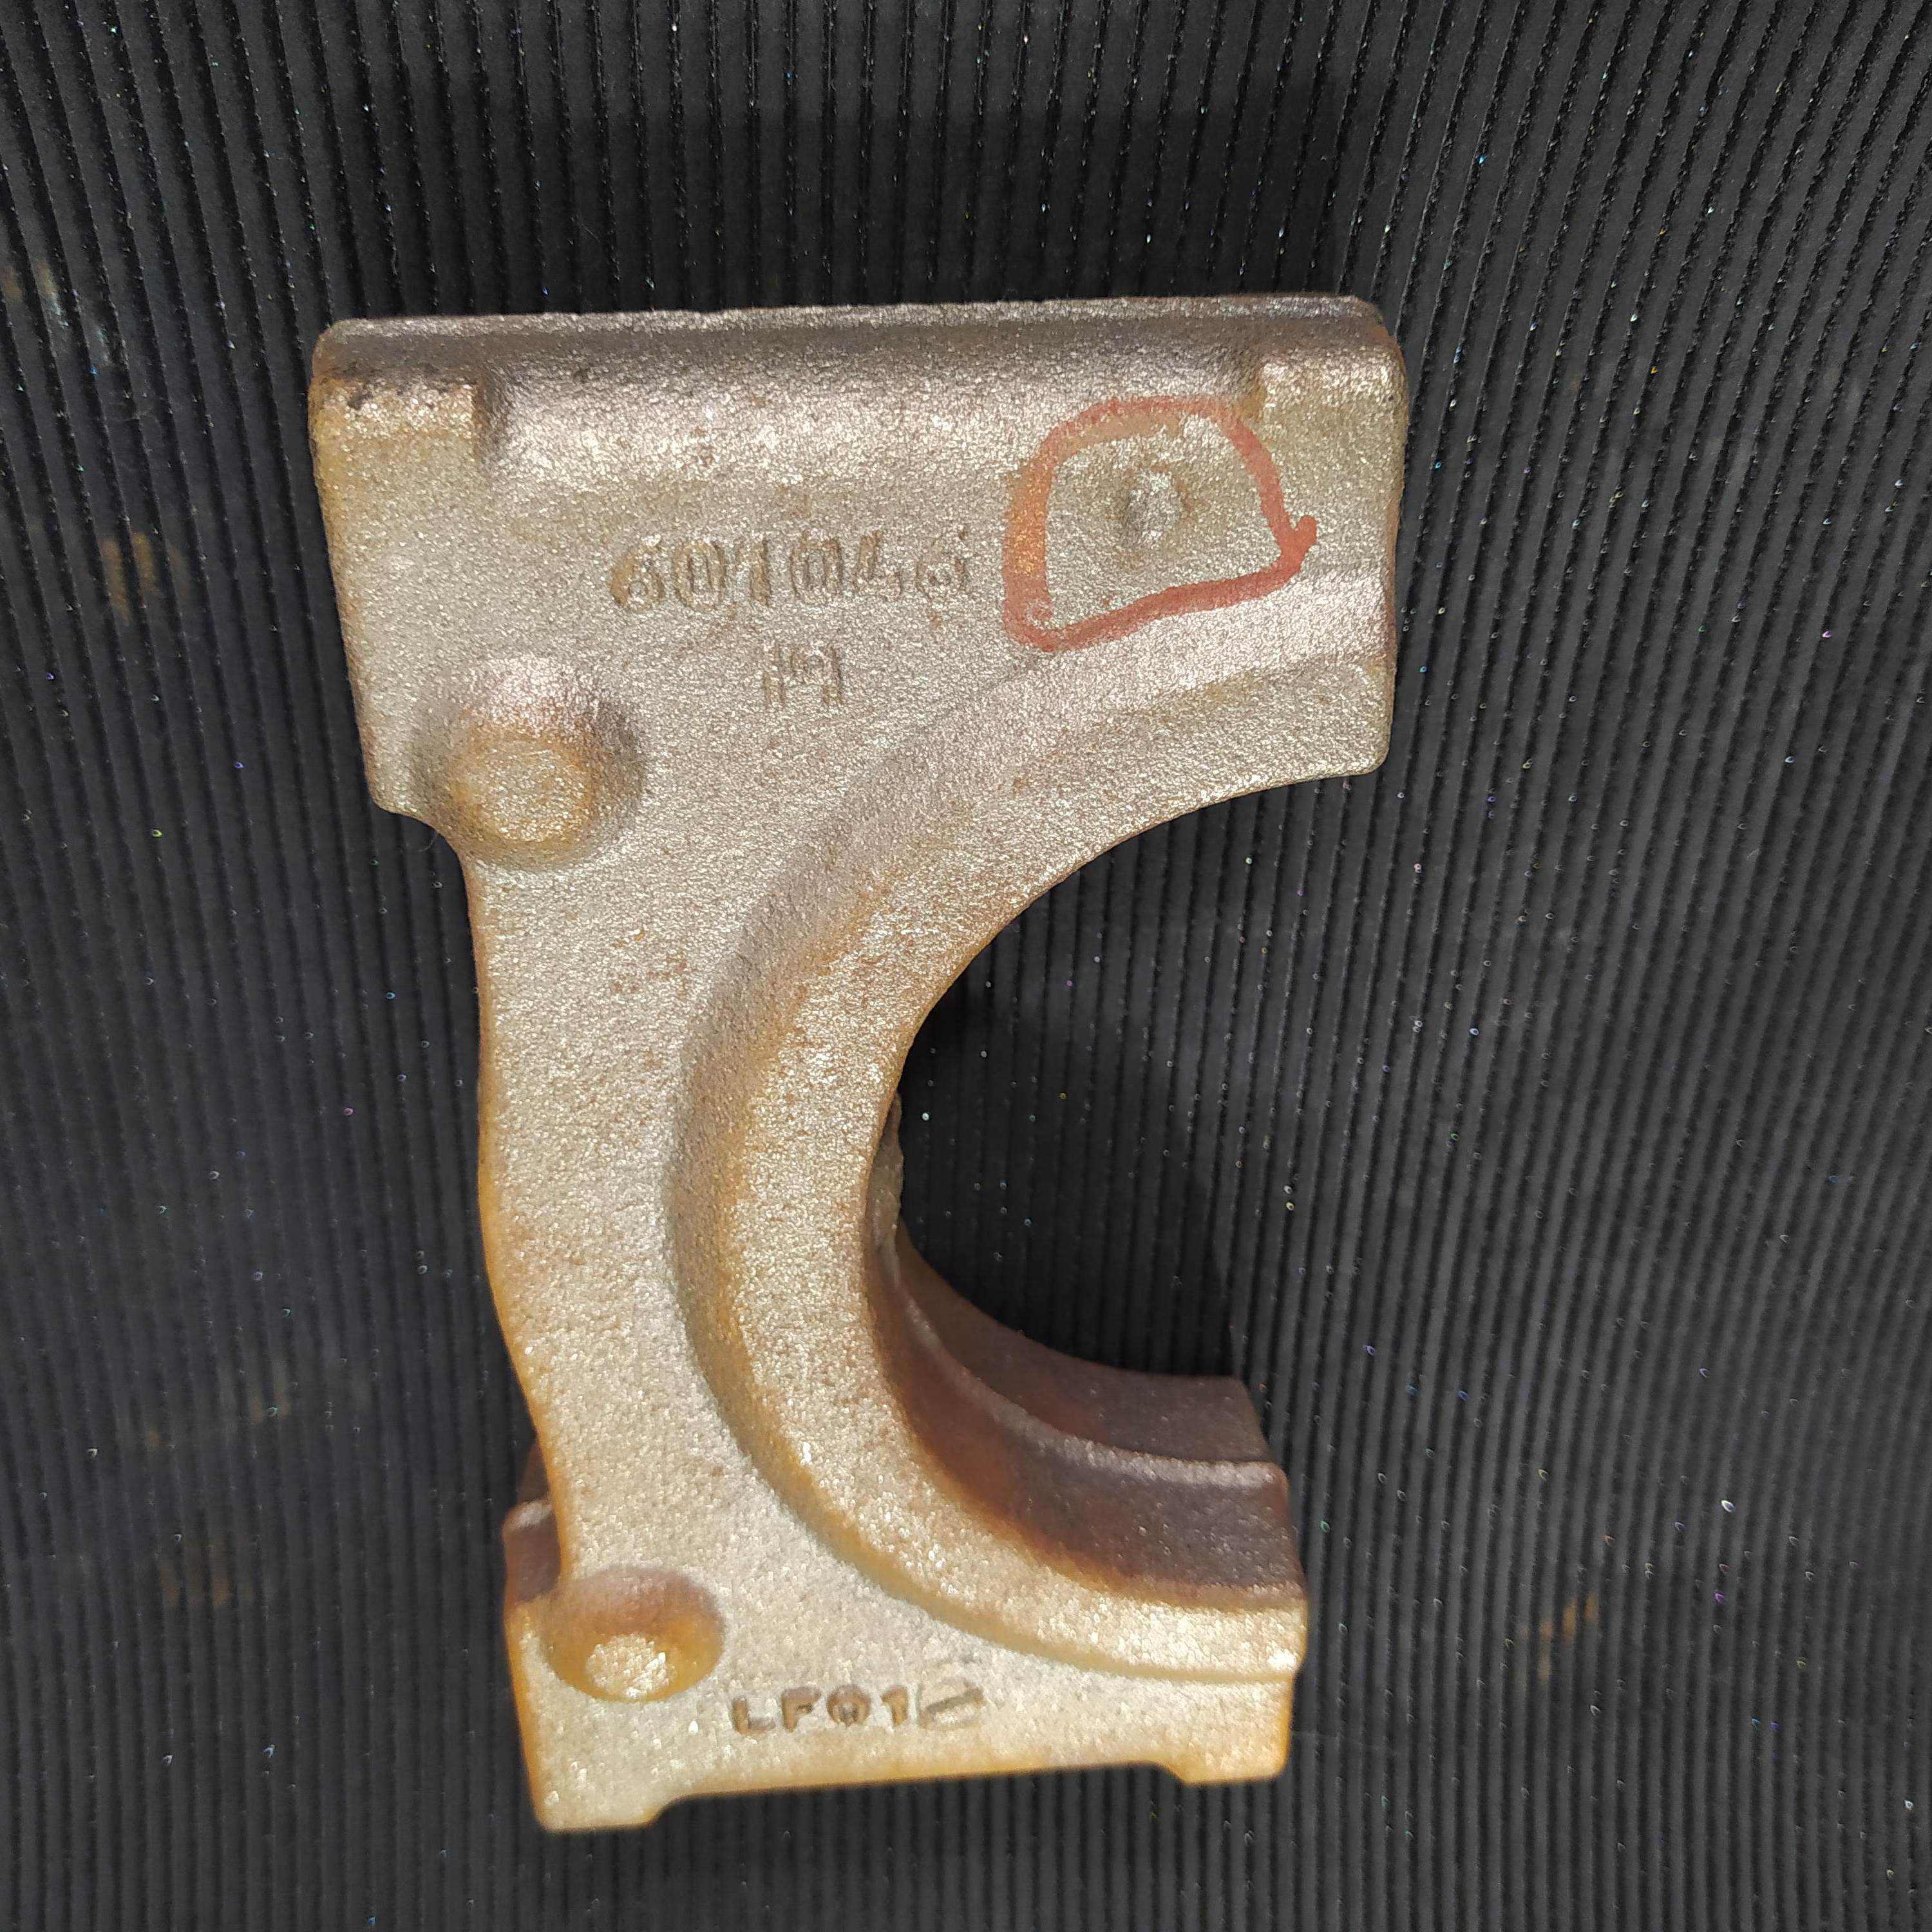buraco: (1111, 456, 1205, 564)
